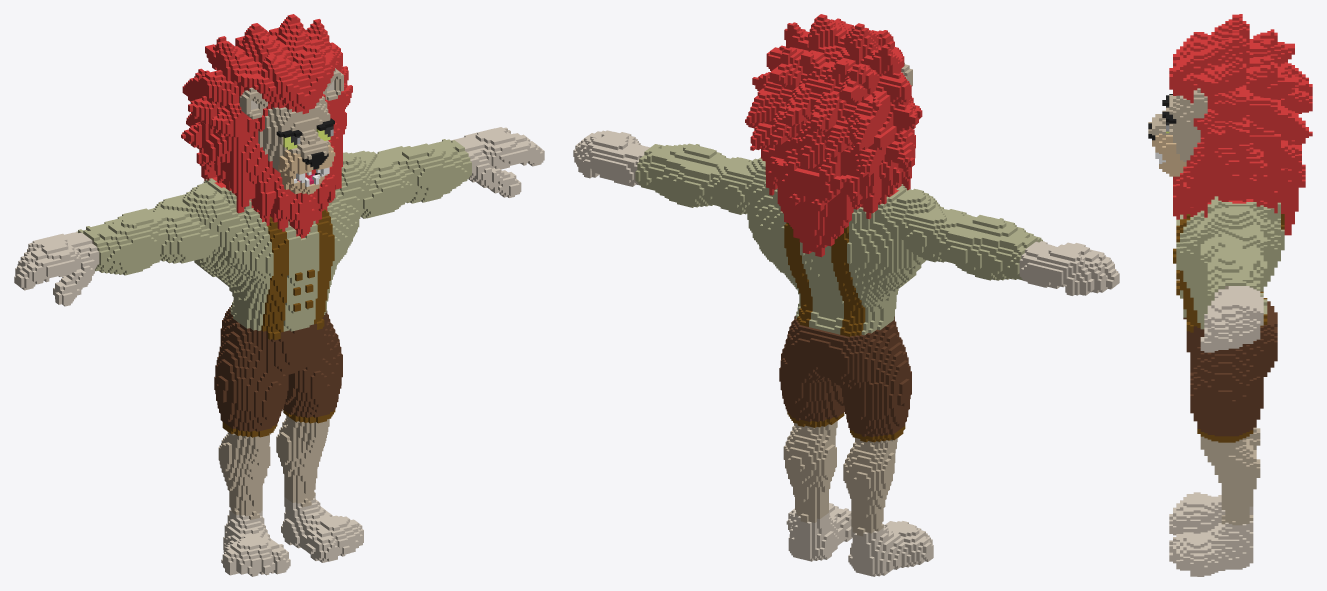
Rendered from 369-BrQH0-Hh.glb.
The picture shows the model from 3 angles, left to right: view 1: azimuth 30°, elevation 25°; view 2: azimuth 150°, elevation 25°; view 3: azimuth 270°, elevation 25°; orthographic projection. The views are drawn at different scales.
Visible parts, largest first — view 1: open; view 2: open; view 3: open.
Part boxes in pixels (left/top/right/bottom): open: left=14, top=14, right=544, bottom=576; open: left=573, top=14, right=1119, bottom=576; open: left=1148, top=14, right=1312, bottom=576.
Bounding box in the file's own units: 17.2 × 16.5 × 4.7.
5 materials, 5 textured.
